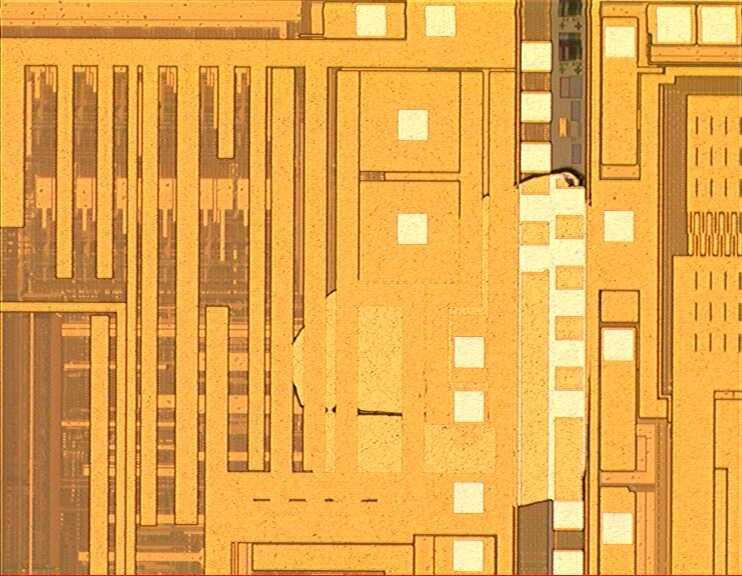BLOCK ETCH: (282, 163, 626, 529)
